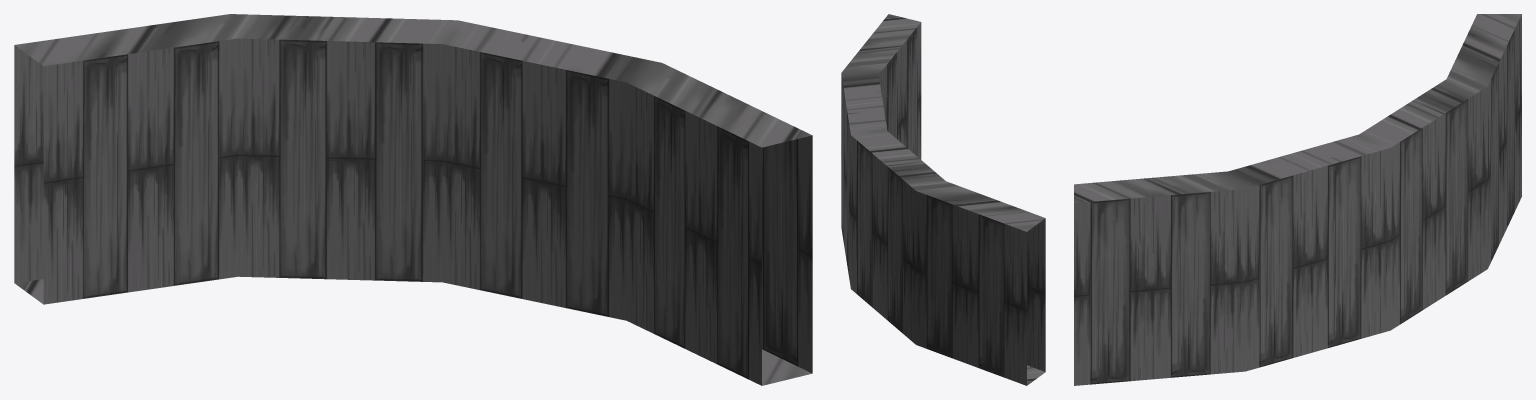
The model's file is CurvedWall.fbx.
3 renders of one model, left to right at view 1: azimuth 30°, elevation 25°; view 2: azimuth 150°, elevation 25°; view 3: azimuth 270°, elevation 25°, orthographic. The views are drawn at different scales.
Parts seen in each view (by area): view 1: CurvedWall; view 2: CurvedWall; view 3: CurvedWall.
Part boxes in pixels (x1,y1,x2,y2): CurvedWall: (14, 14, 812, 385); CurvedWall: (841, 14, 1045, 385); CurvedWall: (1074, 14, 1521, 385).
Size of the model in its own units: 11.11 by 5 by 11.11.
